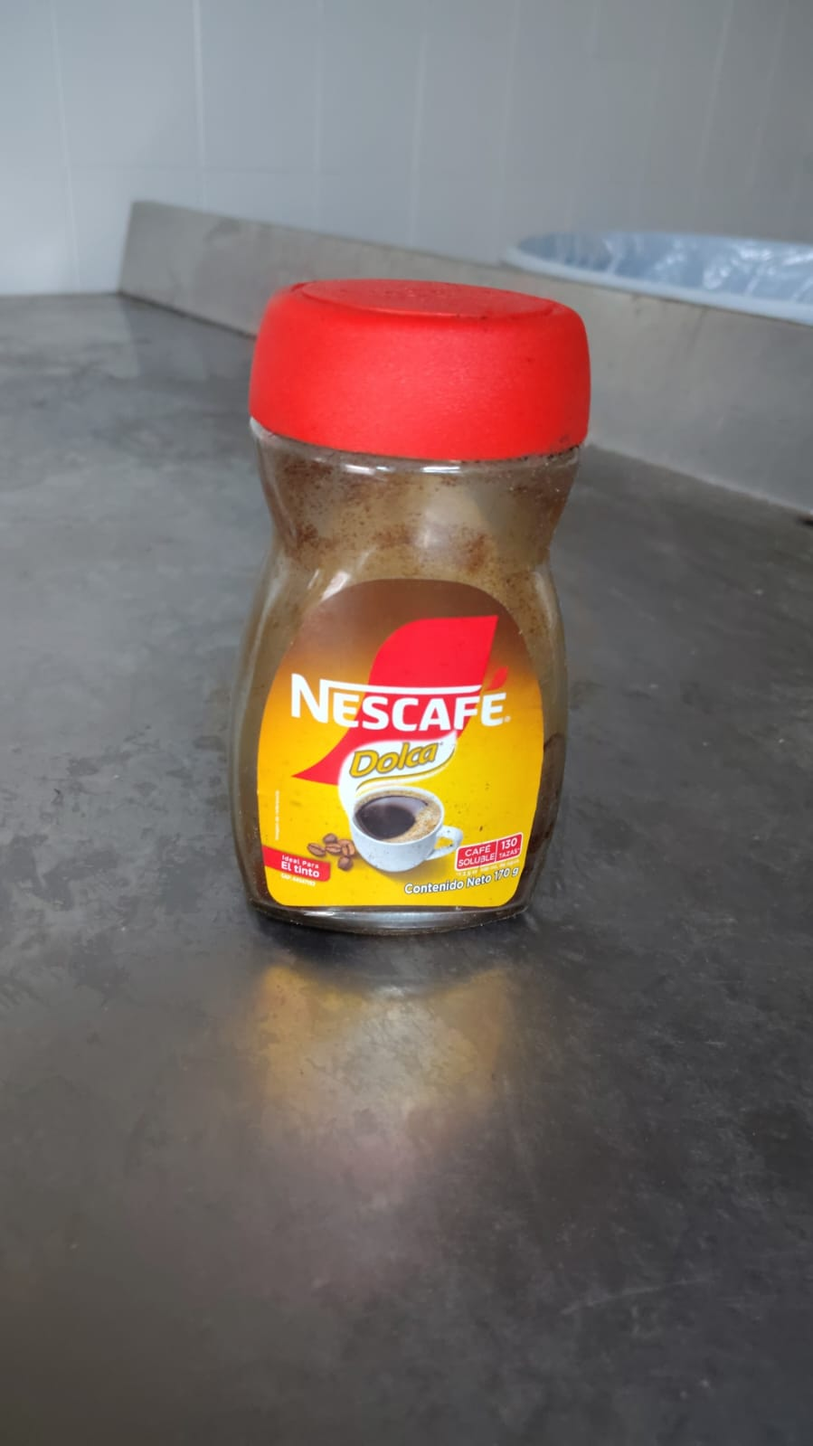Plastico: (250, 282, 589, 458)
Vidrio: (230, 458, 587, 942)
